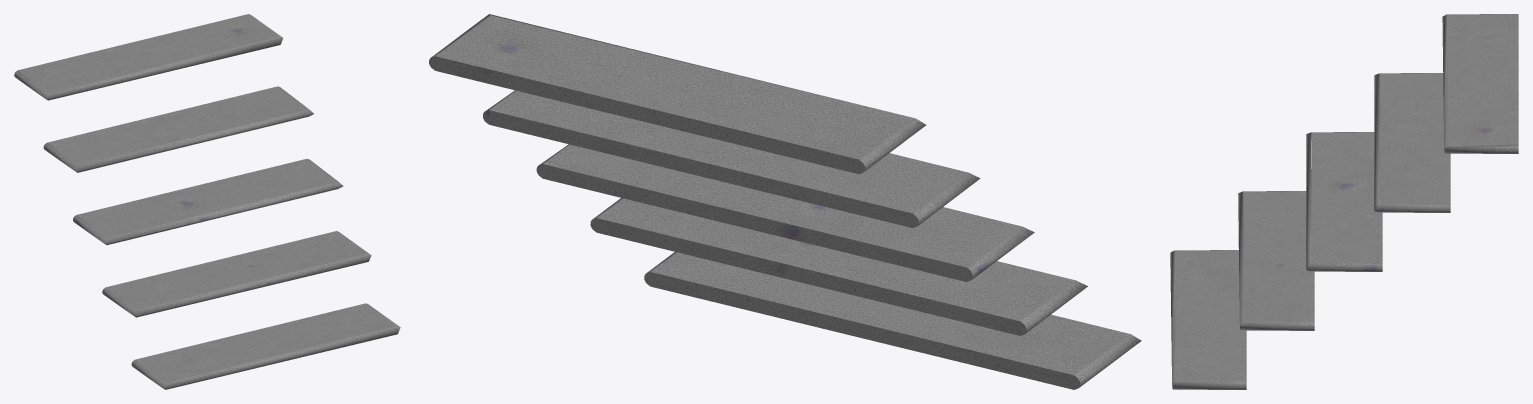
Rendered from 847264cf-c033-4c3e-9b90-55316dbf72b9.glb.
The picture shows the model from 3 angles, left to right: view 1: azimuth 30°, elevation 25°; view 2: azimuth 150°, elevation 25°; view 3: azimuth 270°, elevation 25°; orthographic projection. The views are drawn at different scales.
Parts seen in each view (by area): view 1: AshStairs.003; view 2: AshStairs.003; view 3: AshStairs.003.
Part boxes in pixels (x1=…): AshStairs.003: x1=14, y1=14, x2=400, y2=389; AshStairs.003: x1=429, y1=14, x2=1141, y2=389; AshStairs.003: x1=1170, y1=14, x2=1518, y2=389.
Size of what is drawn, in the model's own units: 1.4 by 1.19 by 1.53.
1 material, 1 textured.
